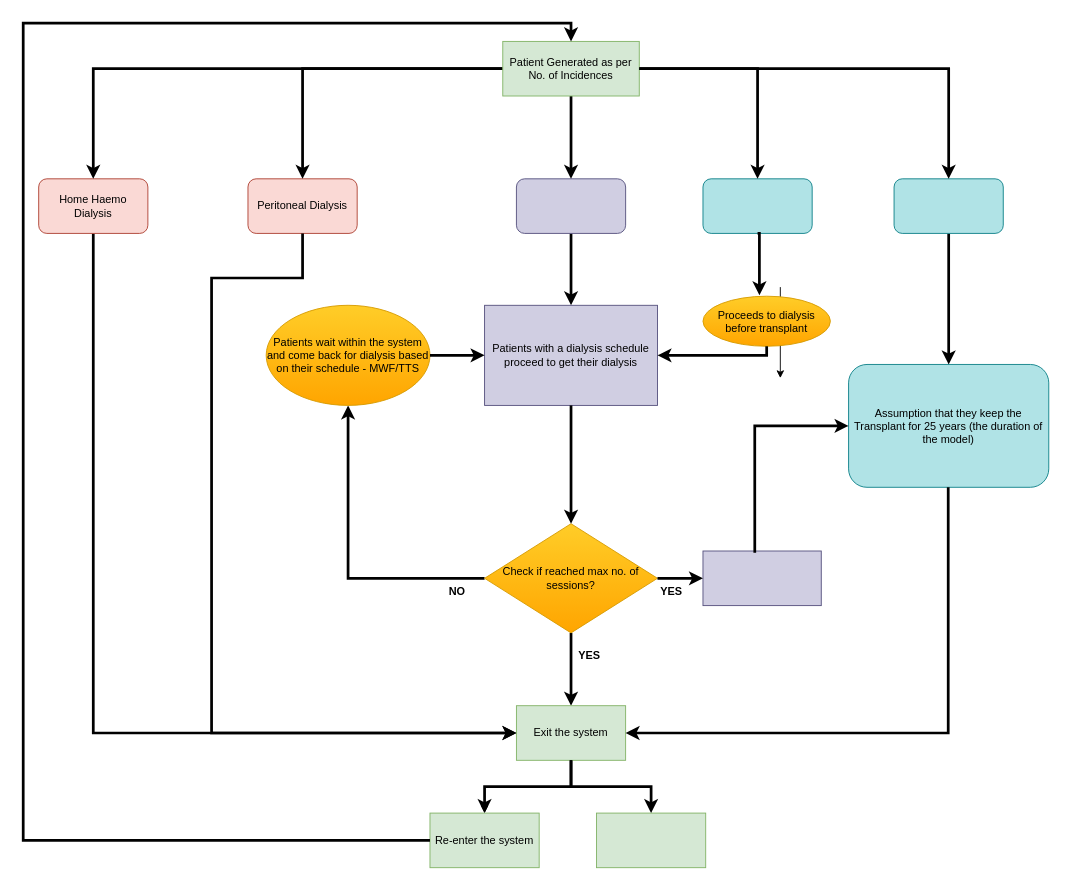
The diagram is 1065 pixels wide and 884 high, and some of its shapes have lost their labels. The box of each missing label's shape, as (x1, y1, x2, y2) in pixels:
Cadaver/Non-pre-emptive Patient Receives Transplant: (702, 550, 821, 606)
Death: (596, 812, 706, 868)
In-Centre Haemo Dialysis: (516, 178, 626, 233)
Non-Pre-emptive Transplant: (702, 178, 812, 233)
Pre-emptive Transplant: (893, 178, 1003, 233)
